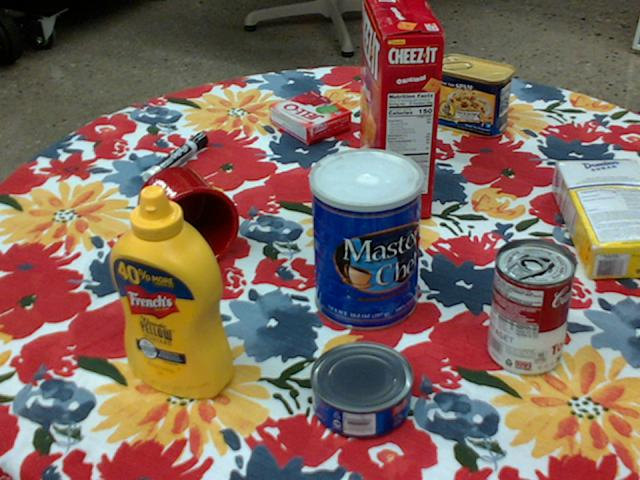cracker_box: (361, 0, 443, 219)
gelatin_box: (268, 90, 351, 145)
large_marker: (141, 131, 206, 184)
master_chef_can: (308, 148, 423, 332)
mug: (129, 166, 239, 272)
mustard_bottle: (108, 185, 234, 397)
potted_meat_can: (434, 53, 515, 136)
sugar_box: (553, 157, 639, 280)
tomato_soup_can: (489, 237, 576, 375)
tuna_fish_can: (306, 342, 410, 439)
